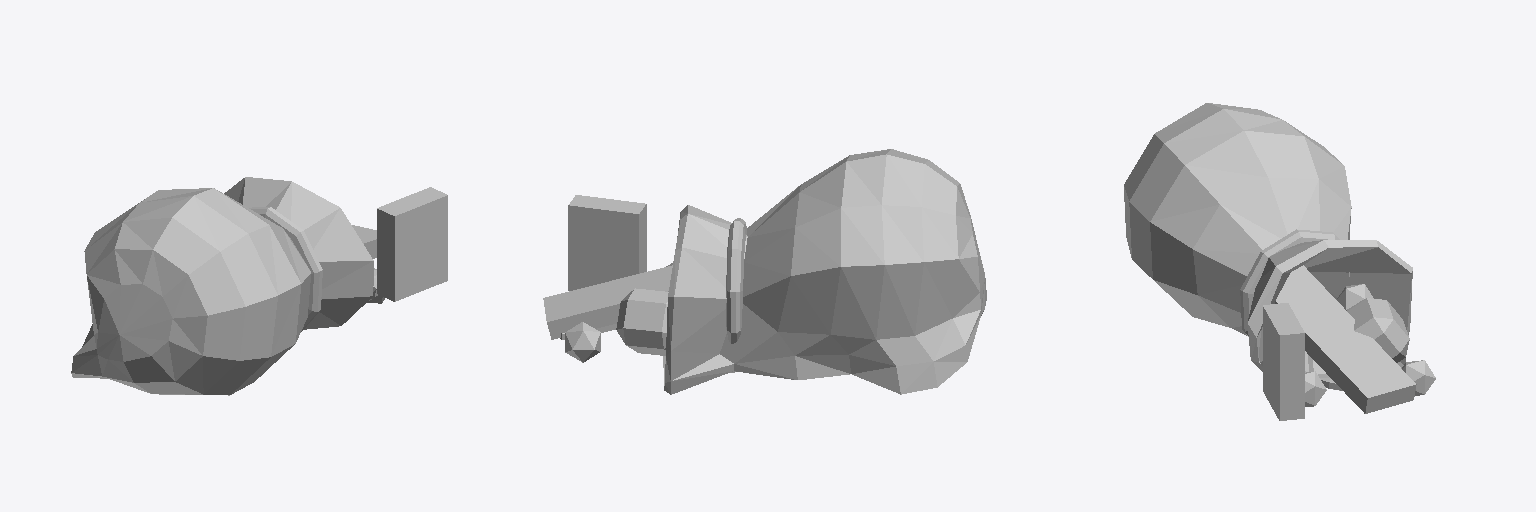
File: trash.obj
3 views of the same model, side by side, from view 1: azimuth 30°, elevation 25°; view 2: azimuth 150°, elevation 25°; view 3: azimuth 270°, elevation 25° (orthographic).
Parts seen in each view (by area): view 1: pCylinder73; view 2: pCylinder73; view 3: pCylinder73.
Part boxes in pixels (left/top/right/bottom): pCylinder73: left=71, top=177, right=447, bottom=395; pCylinder73: left=543, top=149, right=986, bottom=394; pCylinder73: left=1124, top=103, right=1435, bottom=420.
Size of the model in its own units: 2.53 by 1.3 by 1.78.